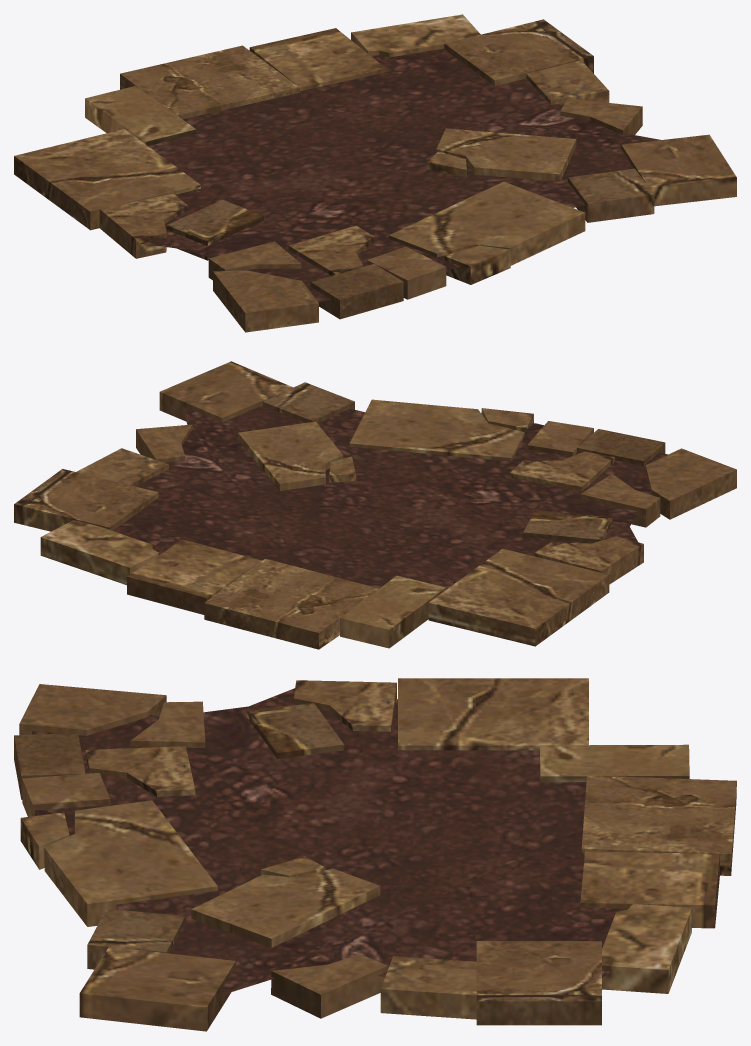
File: Scene_suishizu_01.FBX
3 views of the same model, one above another, from view 1: azimuth 30°, elevation 25°; view 2: azimuth 150°, elevation 25°; view 3: azimuth 270°, elevation 25° (orthographic). The views are drawn at different scales.
Parts seen in each view (by area): view 1: Scene_suishizu_01; view 2: Scene_suishizu_01; view 3: Scene_suishizu_01.
Boxes of the visible parts, x1,y1,x2,y2 form: Scene_suishizu_01: [14, 14, 736, 332]; Scene_suishizu_01: [14, 361, 736, 649]; Scene_suishizu_01: [14, 678, 736, 1031].
Bounding box in the file's own units: 7.35 × 0.2924 × 6.8.
